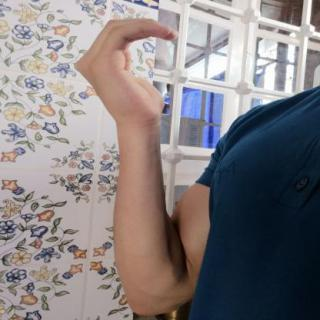HAA: (64, 9, 193, 124)
